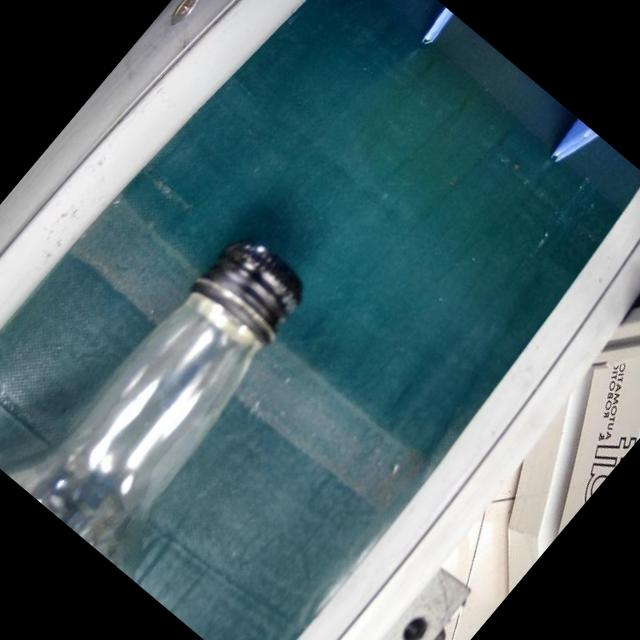BotolKaca: (11, 217, 337, 568)
